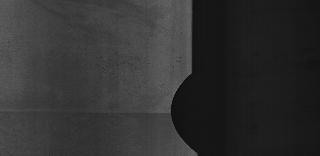welding line: (2, 105, 176, 123)
